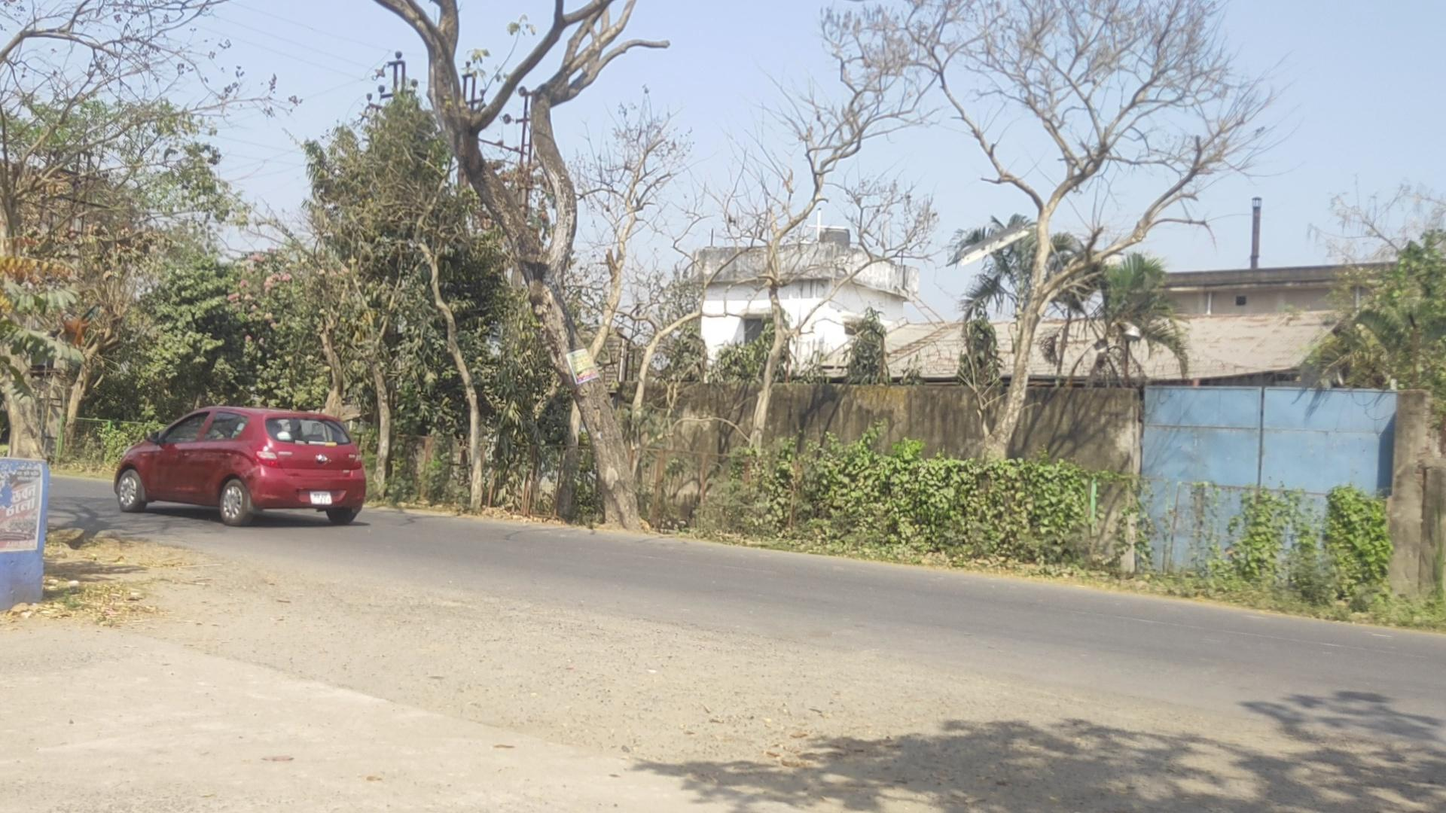car: (114, 406, 367, 528)
